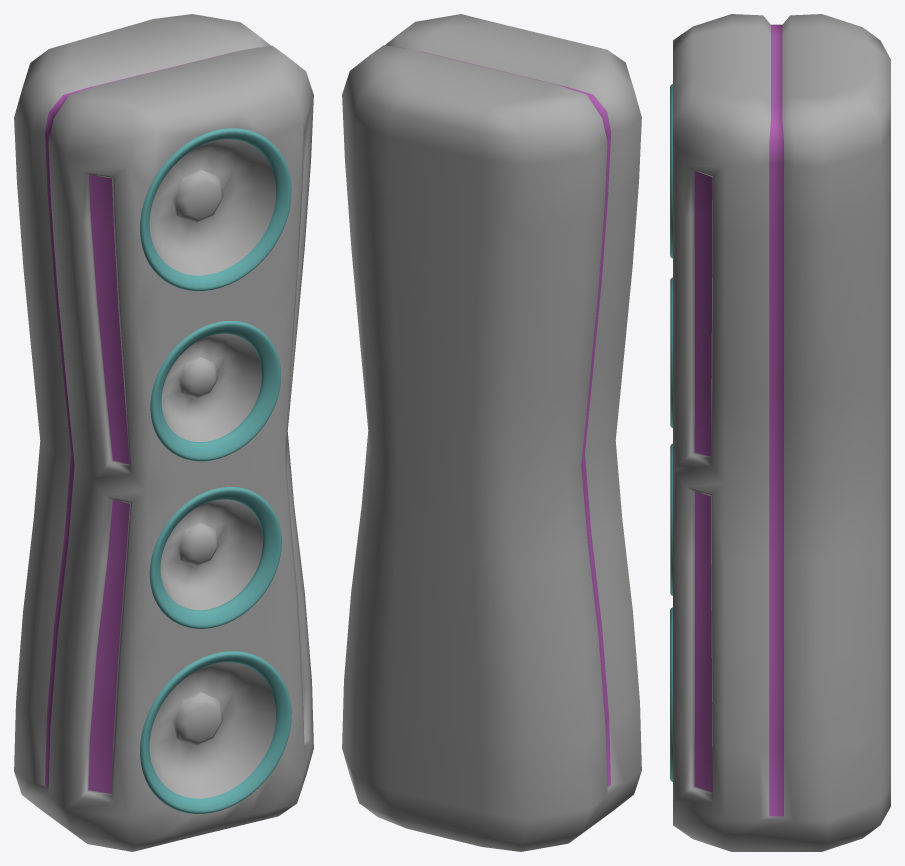
The model's file is enceinte_low_v2.fbx.
The picture shows the model from 3 angles, left to right: view 1: azimuth 30°, elevation 25°; view 2: azimuth 150°, elevation 25°; view 3: azimuth 270°, elevation 25°; orthographic projection.
Visible parts, largest first — view 1: polySurface20, polySurface24, polySurface25, polySurface26, polySurface27; view 2: polySurface20; view 3: polySurface20, polySurface24, polySurface25, polySurface27, polySurface26.
Part boxes in pixels (left/top/right/bottom): polySurface20: left=14, top=14, right=313, bottom=851; polySurface24: left=140, top=651, right=291, bottom=813; polySurface25: left=140, top=128, right=291, bottom=290; polySurface26: left=150, top=321, right=280, bottom=461; polySurface27: left=149, top=487, right=281, bottom=628; polySurface20: left=342, top=14, right=641, bottom=851; polySurface20: left=673, top=14, right=890, bottom=851; polySurface24: left=670, top=607, right=672, bottom=781; polySurface25: left=670, top=84, right=672, bottom=258; polySurface27: left=670, top=443, right=672, bottom=595; polySurface26: left=670, top=277, right=672, bottom=427.
Size of the model in its own units: 57.6 by 164 by 44.35.
